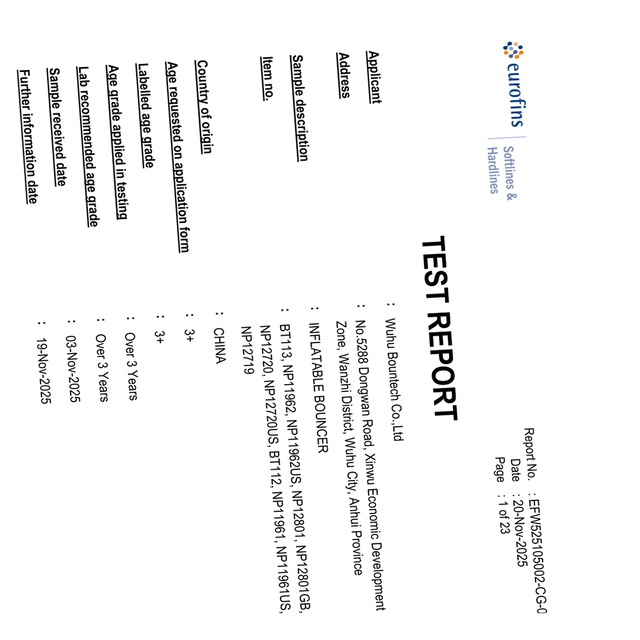eurofins: (496, 38, 535, 135)
